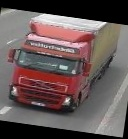truck: (1, 9, 120, 118)
